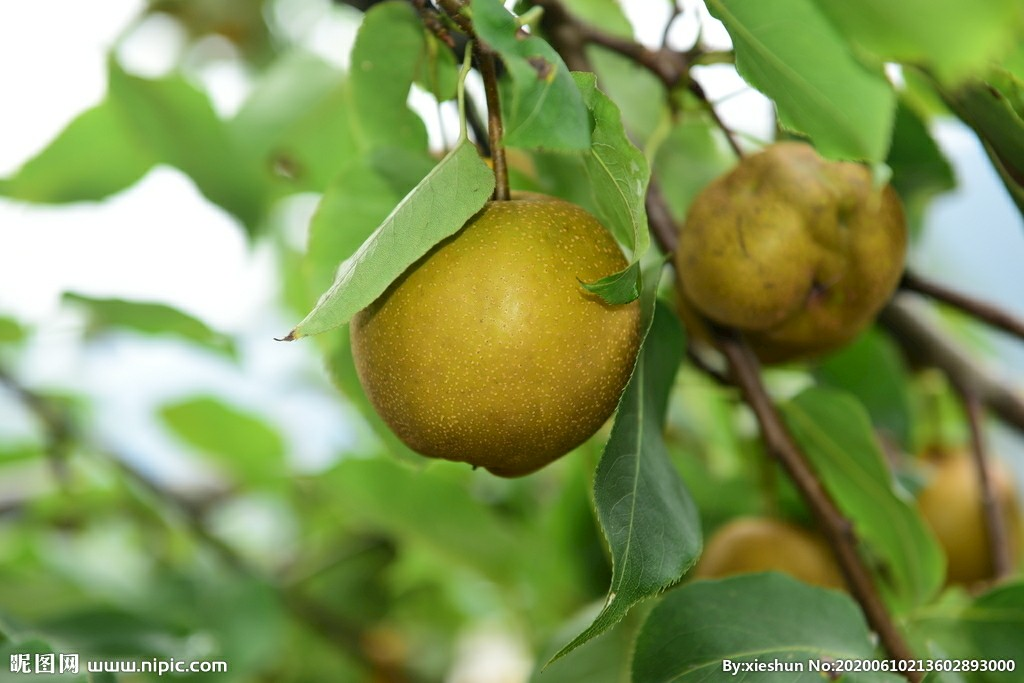pear: (347, 184, 641, 477)
